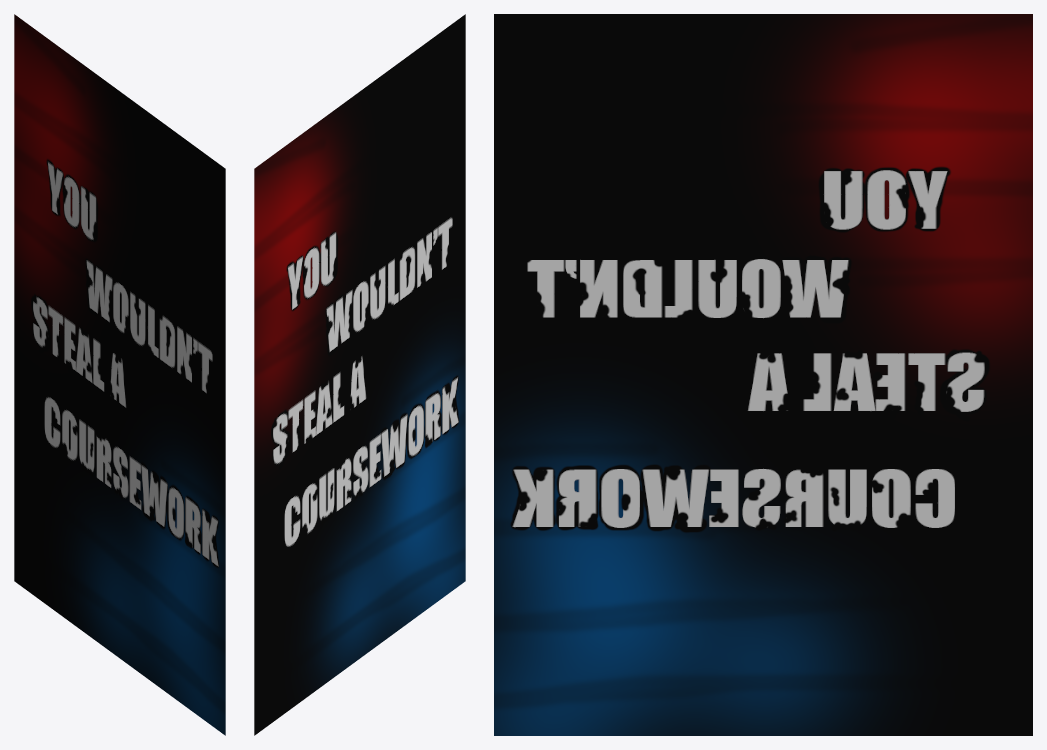
Rendered from download a coursework.fbx.
The picture shows the model from 3 angles, left to right: view 1: azimuth 30°, elevation 25°; view 2: azimuth 150°, elevation 25°; view 3: azimuth 270°, elevation 25°; orthographic projection. The views are drawn at different scales.
Parts seen in each view (by area): view 1: Plane001; view 2: Plane001; view 3: Plane001.
Boxes of the visible parts, x1=… form: Plane001: x1=14, y1=14, x2=225, y2=735; Plane001: x1=254, y1=14, x2=465, y2=735; Plane001: x1=494, y1=14, x2=1032, y2=735.
Size of the model in its own units: 2.67e-06 by 61.1 by 41.32.
Materials: 1 (1 with a texture image).
